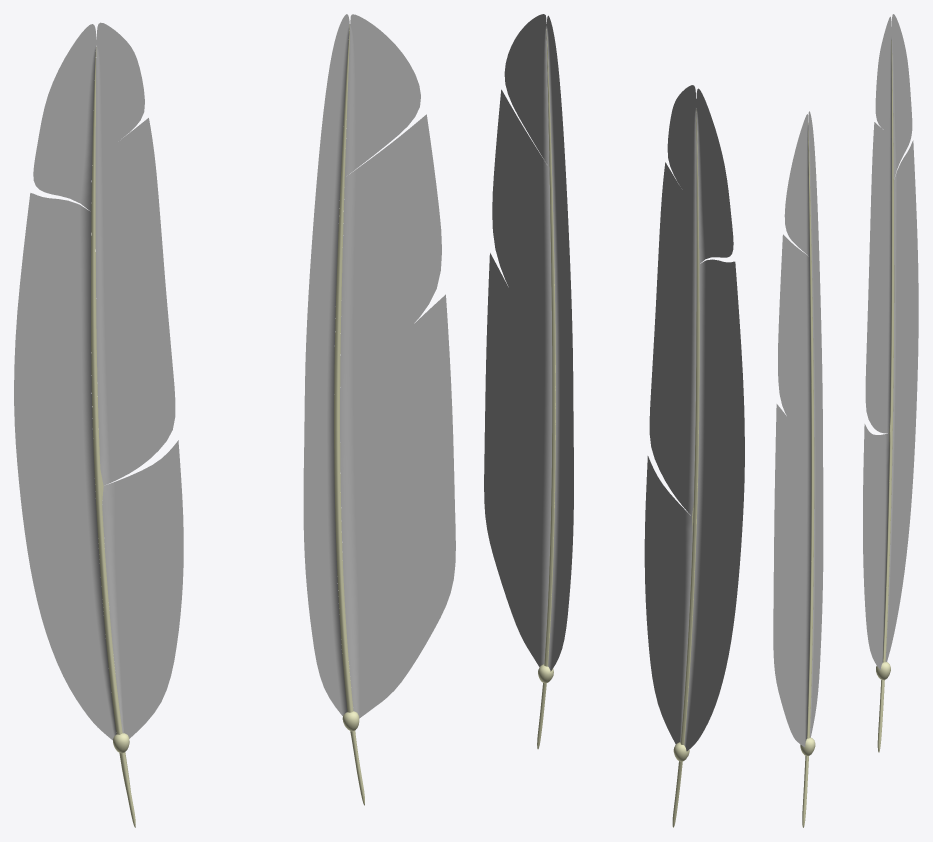
The model's file is feathers.glb.
3 renders of one model, left to right at view 1: azimuth 30°, elevation 25°; view 2: azimuth 150°, elevation 25°; view 3: azimuth 270°, elevation 25°, orthographic. The views are drawn at different scales.
Visible parts, largest first — view 1: feather_a_geather_a, feather_b; view 2: feather_a_geather_a, feather_b; view 3: feather_a_geather_a, feather_b.
Boxes of the visible parts, x1,y1,x2,y2 form: feather_a_geather_a: [14, 22, 183, 827]; feather_b: [303, 14, 455, 805]; feather_a_geather_a: [644, 85, 744, 827]; feather_b: [484, 14, 573, 749]; feather_a_geather_a: [863, 14, 918, 752]; feather_b: [773, 111, 823, 827].
Size of the model in its own units: 0.5735 by 1.23 by 0.2233.
